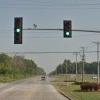Traffic light: (5, 11, 83, 51)
